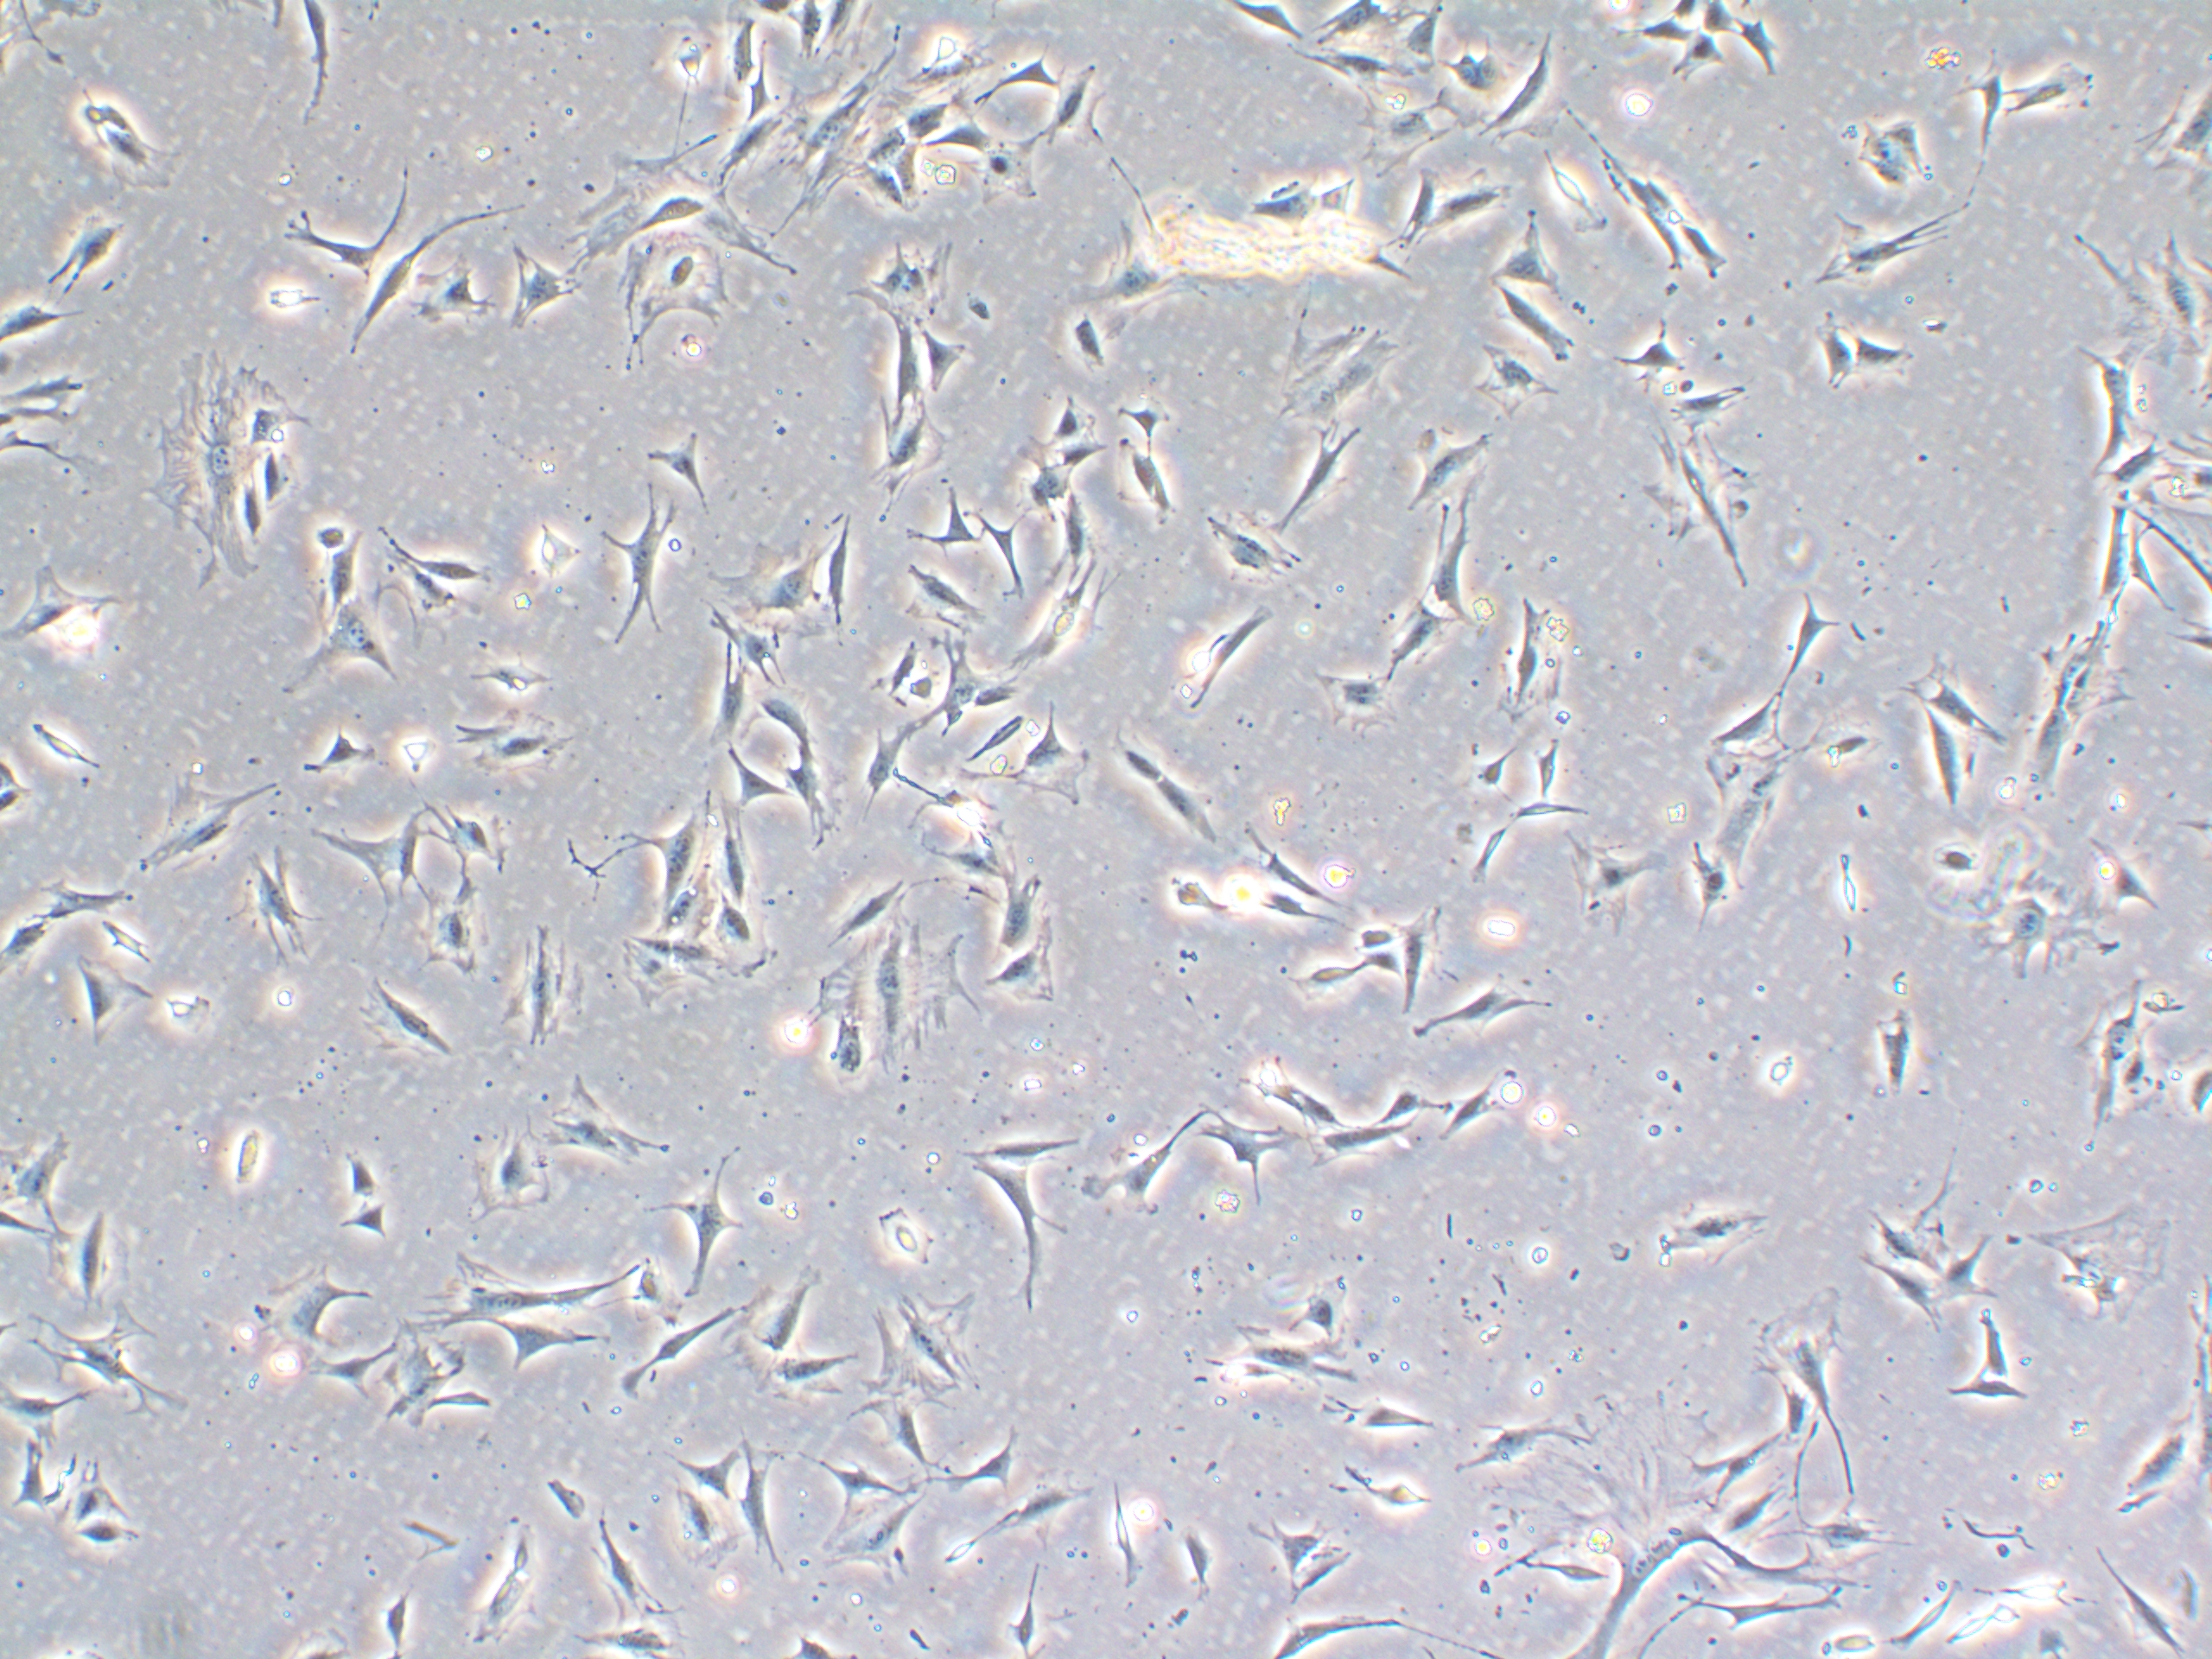small: (1353, 1459, 1458, 1532), (866, 1194, 951, 1277), (1282, 939, 1369, 1021), (1146, 861, 1235, 929), (223, 1110, 284, 1202), (373, 1567, 427, 1643), (333, 1195, 404, 1251), (1925, 829, 1977, 884), (1345, 917, 1400, 965), (301, 509, 348, 559)
spread: (1521, 1375, 1757, 1659), (118, 324, 315, 568), (550, 127, 805, 300), (772, 918, 988, 1084), (1916, 824, 2120, 993), (566, 913, 799, 1032), (1615, 415, 1761, 599), (2012, 1188, 2181, 1337), (1247, 308, 1423, 441), (1061, 192, 1212, 345), (2066, 209, 2212, 368), (775, 45, 906, 204), (482, 920, 615, 1073), (2024, 615, 2142, 777), (413, 1241, 625, 1328), (838, 1279, 996, 1392), (1299, 0, 1447, 118), (611, 239, 745, 359), (808, 1480, 939, 1601), (260, 601, 401, 711), (138, 763, 272, 877), (700, 537, 834, 645), (455, 1103, 563, 1230), (1341, 71, 1454, 188), (843, 230, 974, 329), (538, 1084, 658, 1171)
